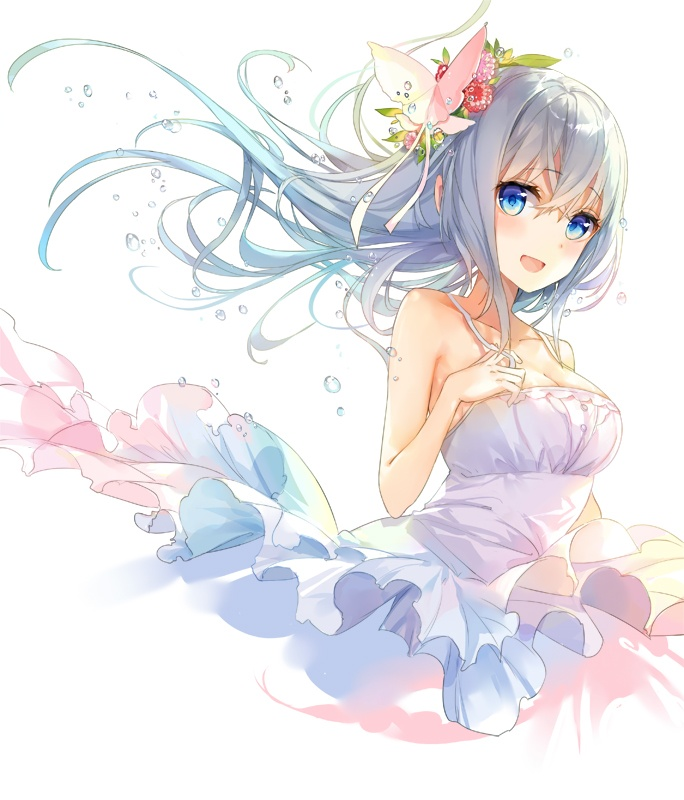纸片人正脸: (428, 50, 631, 302)
